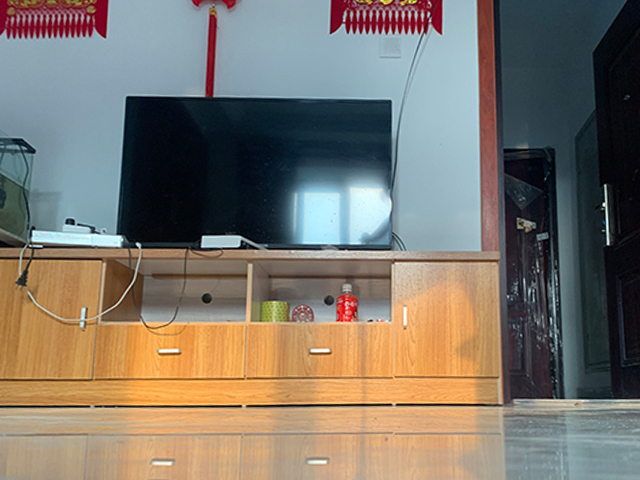cabinet: (1, 246, 507, 408)
wire: (4, 216, 185, 332)
